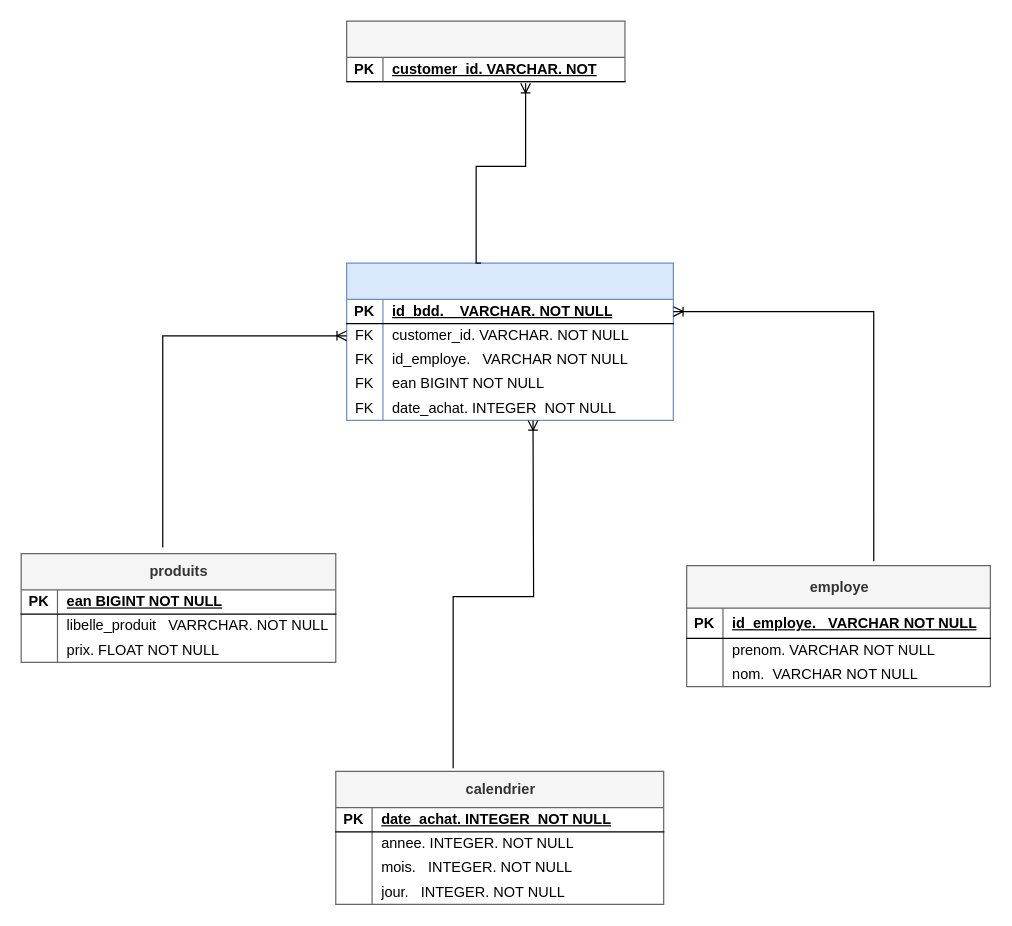
This 1012x926 diagram has some shape labels left out. Each missing label, with the box of its shape:
c lients: (345, 20, 625, 82)
vente_Détail: (345, 262, 673, 420)
